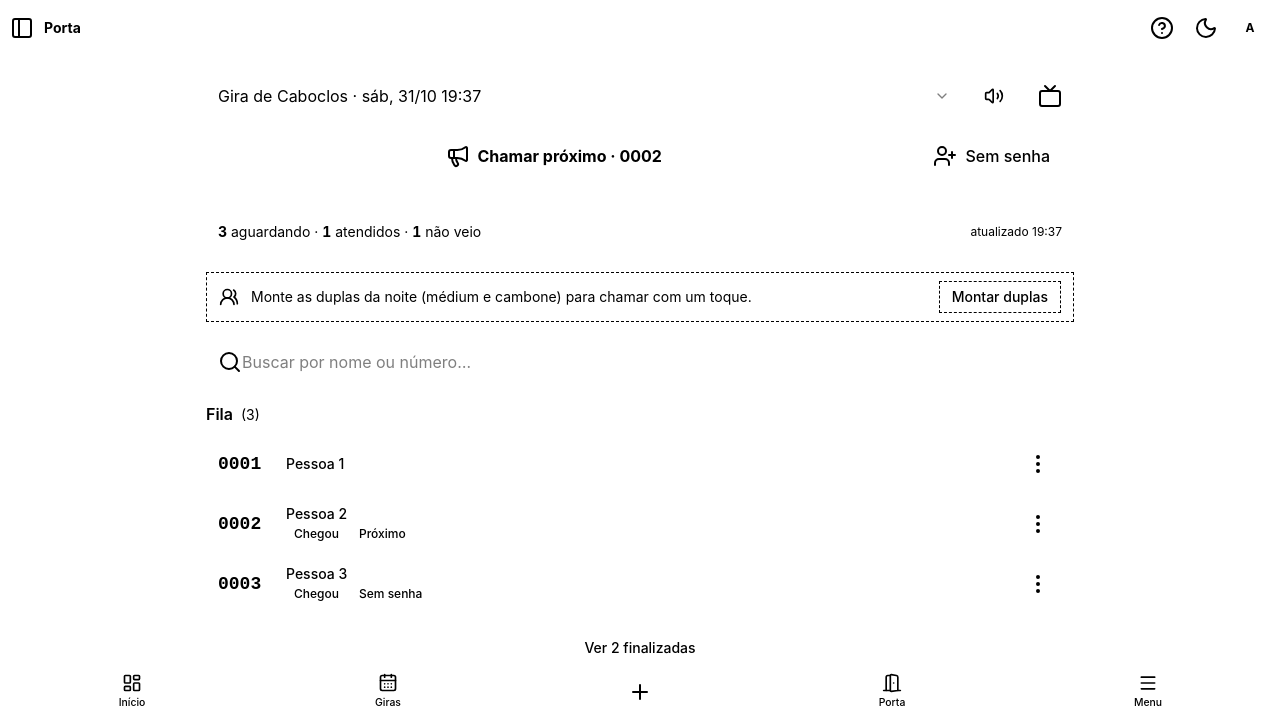
Test: Porta — modo operação › erro ao carregar os médiuns avisa com toast (sem catch silencioso) e deixa digitar o nome
This screenshot has width=1280, height=720.
Check: the element with test id "porta-indicadores" is shown, box [218,222,481,242]
Click the button "Chamar próximo · 0002". click: {"x": 554, "y": 156}
box: [206,132,901,180]
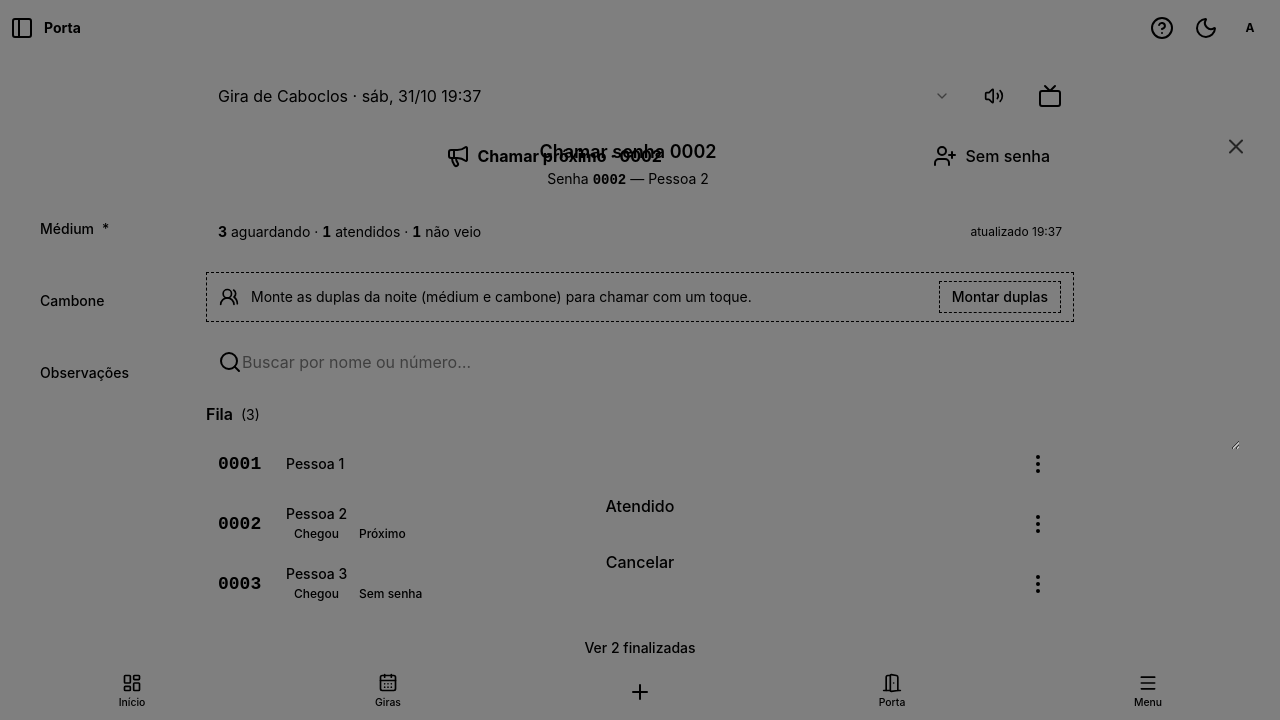
Check: the field labelled "Médium *" is shown, box [40,242,1240,278]
